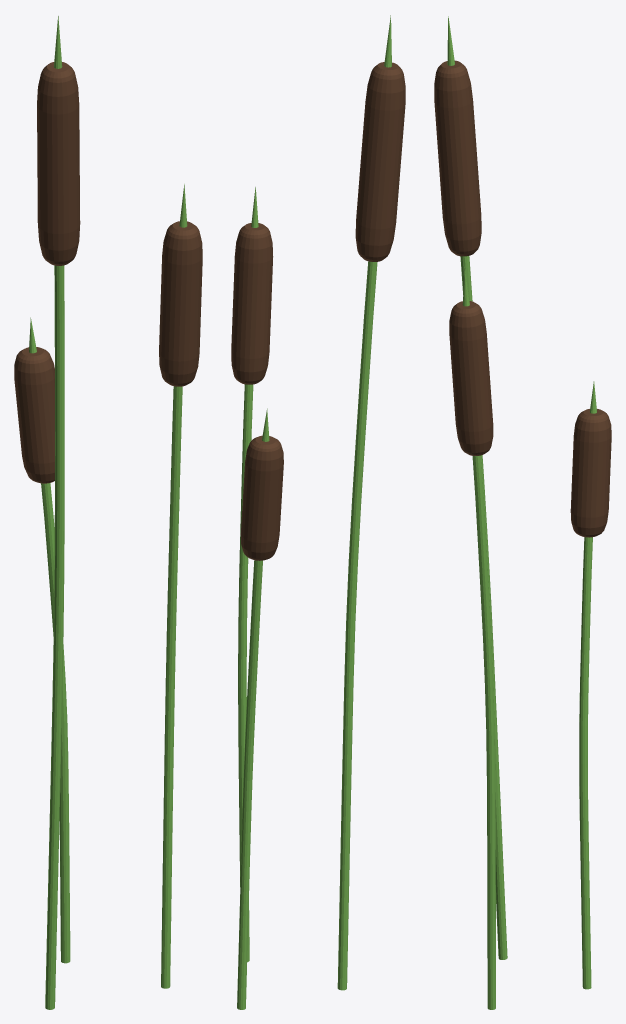
Rendered from Reed 3.fbx.
3 views of the same model, side by side, from view 1: azimuth 30°, elevation 25°; view 2: azimuth 150°, elevation 25°; view 3: azimuth 270°, elevation 25° (orthographic). The views are drawn at different scales.
Visible parts, largest first — view 1: Reed 3; view 2: Reed 3; view 3: Reed 3.
Part boxes in pixels (bbox=[...]): Reed 3: bbox=[14, 16, 202, 1009]; Reed 3: bbox=[231, 15, 405, 1009]; Reed 3: bbox=[434, 16, 611, 1009].
Size of the model in its own units: 0.726 by 4.21 by 0.7235.
